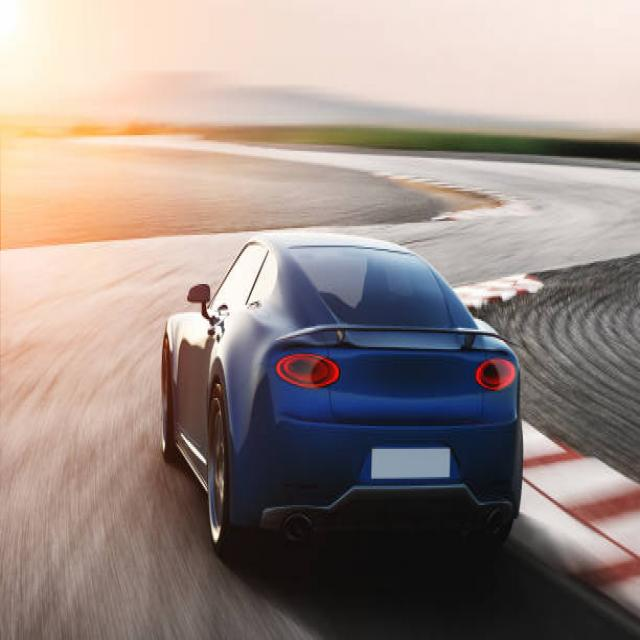yolov7-seg-car: (160, 231, 524, 563)
